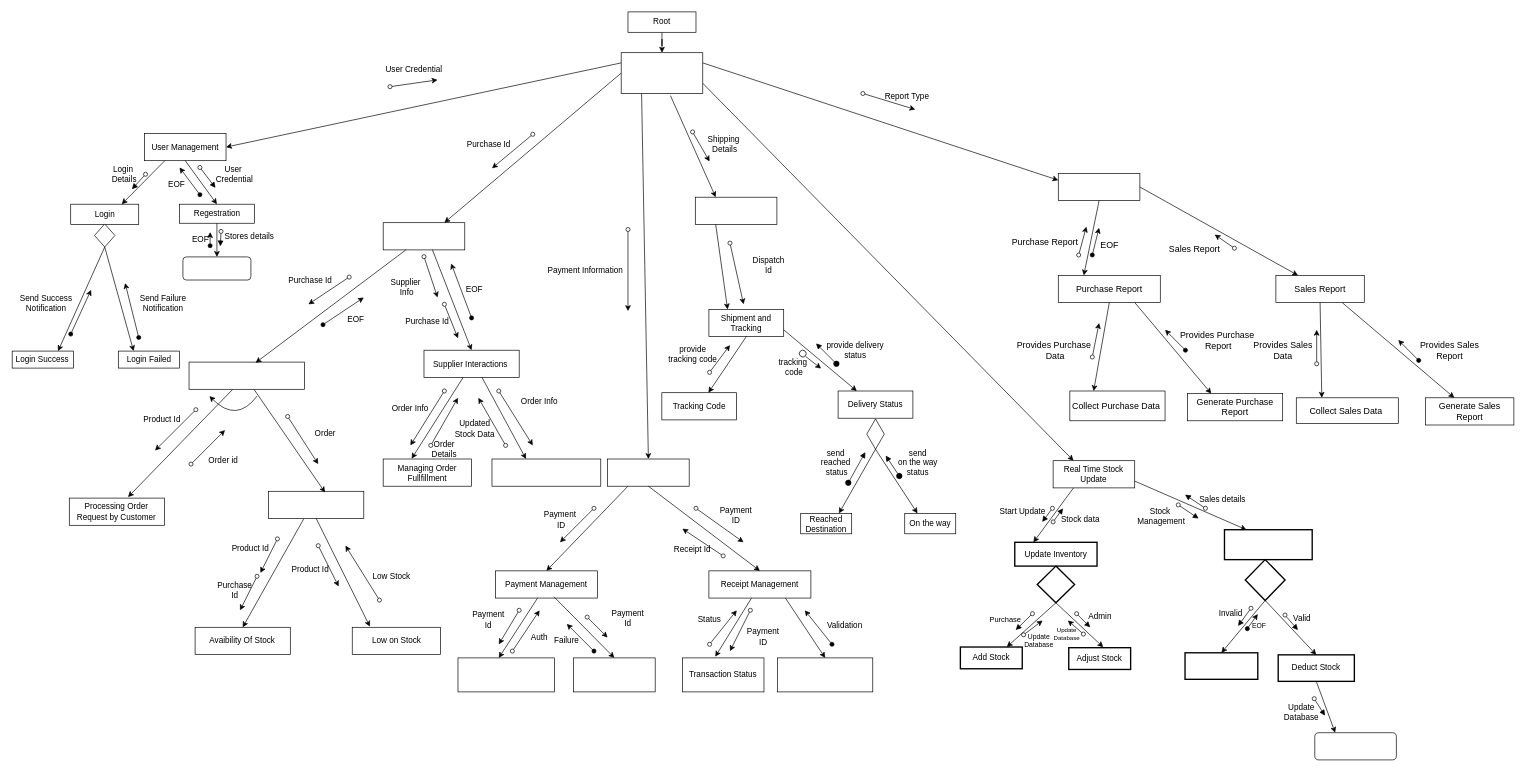
This 1526x772 diagram has some shape labels left out. The shapes that lost their labels are listed below. From the top down, each one's box as (x1, y1, x2, y2) in pixels, then its label:
(620, 52, 703, 94): Inventory Management System
(1058, 173, 1140, 201): Report Preparation
(695, 197, 777, 224): Dispatch Order
(382, 222, 465, 250): Purchase Order
(182, 256, 251, 280): User Information
(188, 361, 305, 389): Order Placement
(491, 458, 601, 486): Updating Inventory Stocks
(607, 458, 689, 486): Payment
(268, 491, 364, 518): Checking Product Availability
(1223, 529, 1313, 560): Sales Transaction
(457, 657, 555, 692): Payment Auth
(573, 657, 655, 692): Failure Notification
(777, 657, 873, 692): Transaction Validation
(1184, 652, 1258, 680): Reject Transaction
(1314, 732, 1396, 760): Inventory Database
